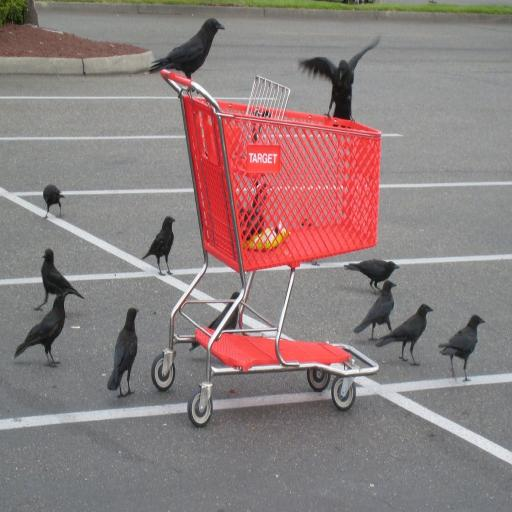shopping_cart: (149, 68, 387, 426)
